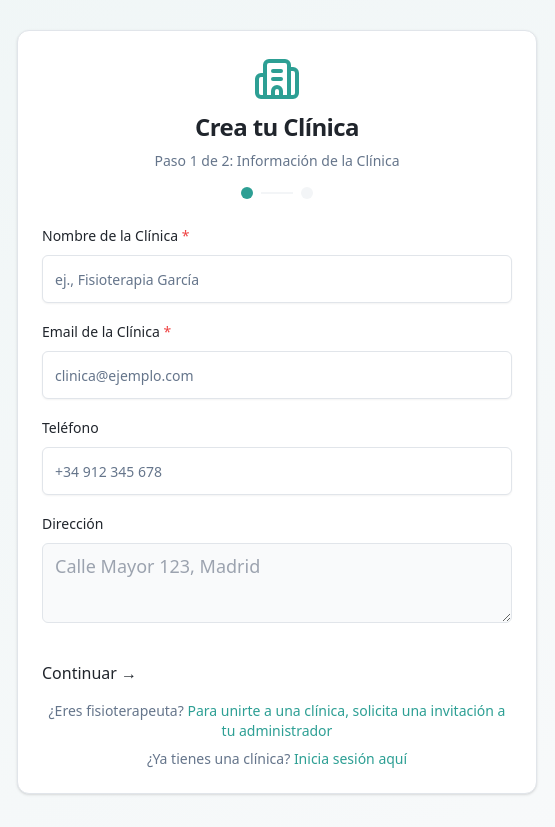
Test: Onboarding Component - Clinic-First Flow › Step 1: Clinic Information › enables continue button when clinic name and email are filled
Step 1. Type "Test Clinic" into the field labelled "Nombre de la Clínica *" → (277, 279), box left=42, top=255, right=512, bottom=303
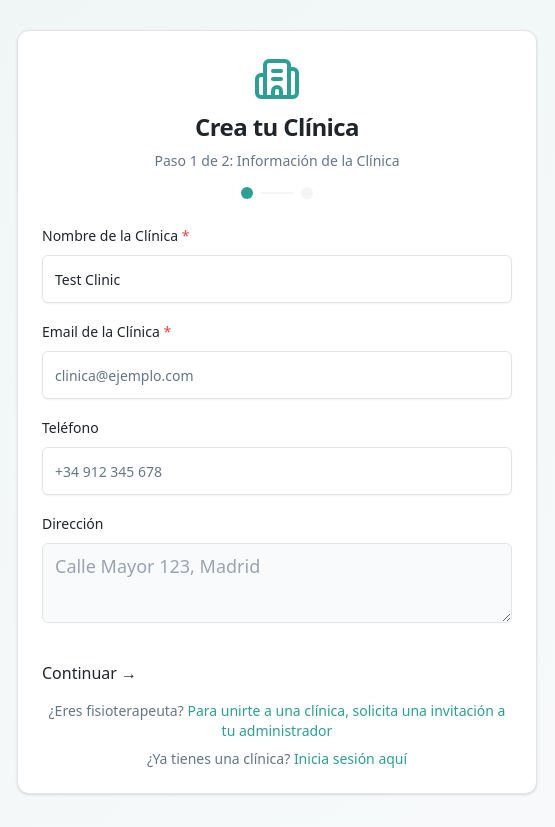
Step 2. Type "clinic@example.com" into the field labelled "Email de la Clínica *" → (277, 375), box left=42, top=351, right=512, bottom=399
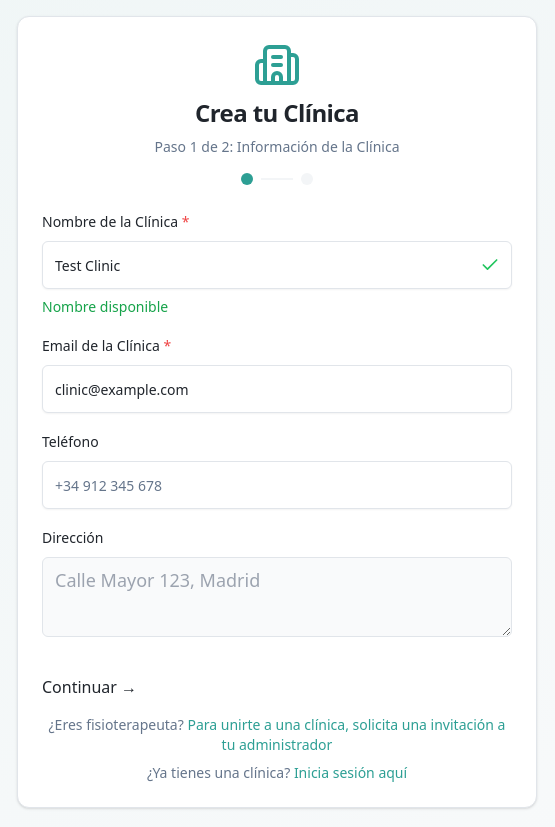
Check: the button "Continuar →" is enabled, box left=42, top=675, right=137, bottom=699
